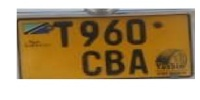T: (52, 20, 75, 49)
